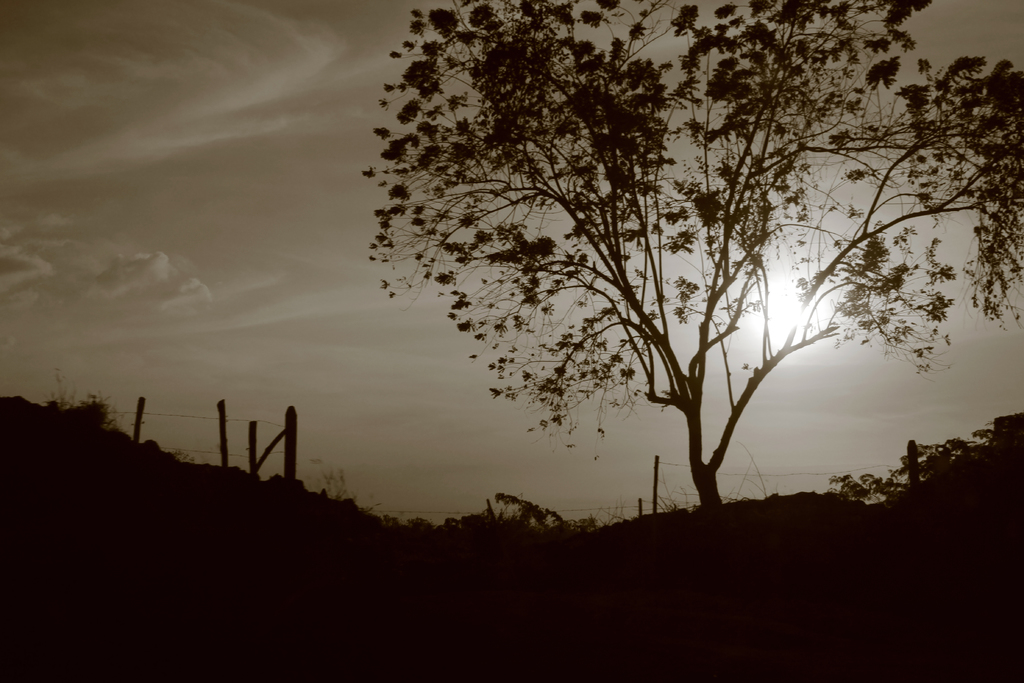Tree: (320, 0, 999, 567)
